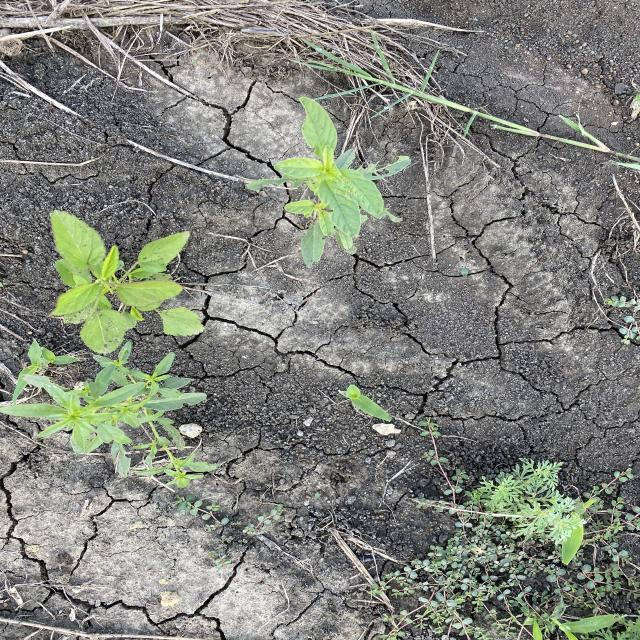PricklySida: (47, 206, 207, 356)
Ragweed: (462, 454, 592, 546)
SpottedSpurge: (326, 416, 639, 637), (172, 496, 286, 573), (604, 291, 638, 345)
Waterhemp: (3, 338, 222, 493), (243, 96, 416, 271)
